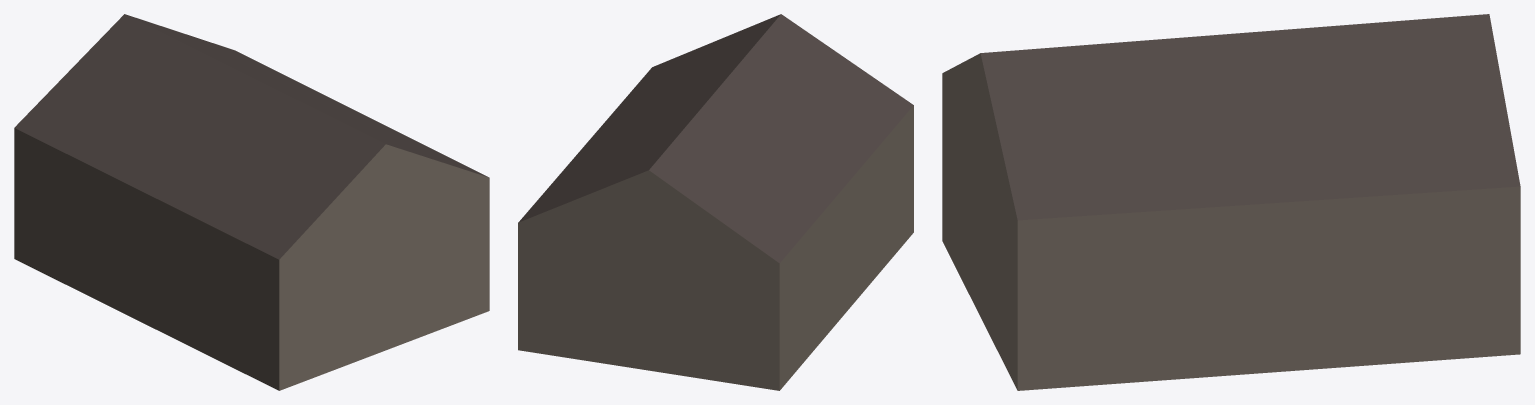
The picture shows the model from 3 angles, left to right: view 1: azimuth 30°, elevation 25°; view 2: azimuth 150°, elevation 25°; view 3: azimuth 270°, elevation 25°; orthographic projection. The views are drawn at different scales.
Parts seen in each view (by area): view 1: HP-w1365659948; view 2: HP-w1365659948; view 3: HP-w1365659948.
Part boxes in pixels (box(x1,y1,x2,y2)): HP-w1365659948: box(14, 14, 489, 390); HP-w1365659948: box(518, 14, 913, 390); HP-w1365659948: box(942, 14, 1520, 390).
Bounding box in the file's own units: 14.52 × 9.43 × 18.73.
